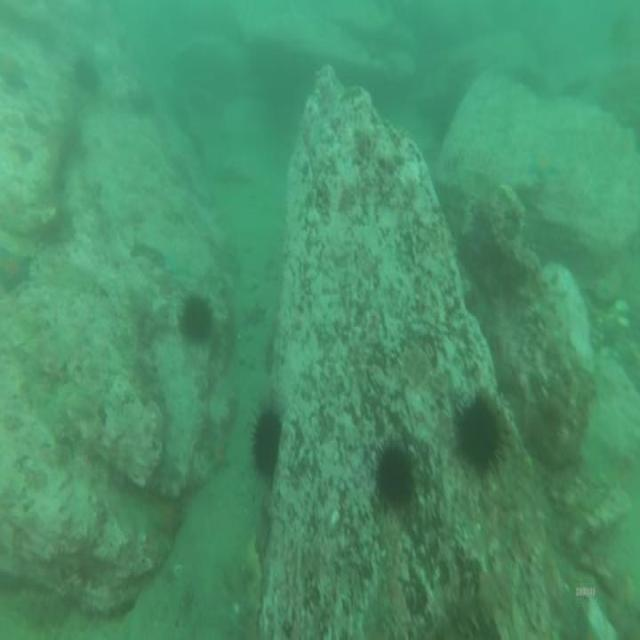echinus: (458, 403, 498, 469), (378, 444, 415, 509), (253, 408, 279, 479), (178, 300, 210, 338), (71, 55, 100, 95)
holothurian: (242, 537, 262, 615)
starfish: (2, 253, 31, 289), (157, 502, 180, 540), (209, 436, 229, 471)
